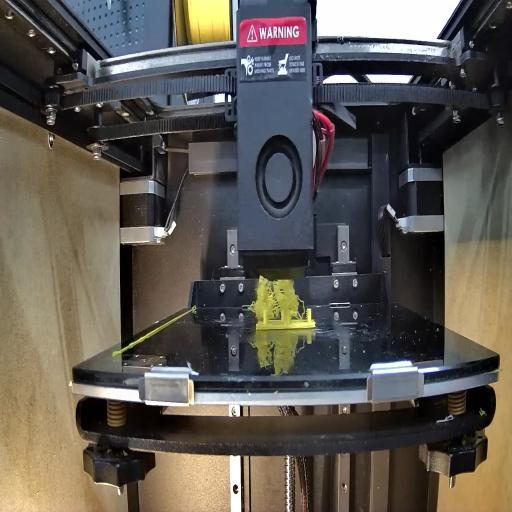spaghetti: (250, 276, 301, 319)
